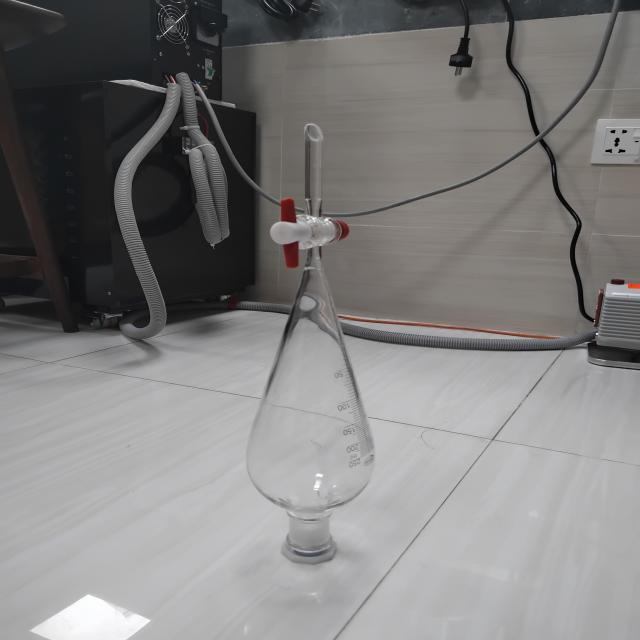Separating_Funnel: (232, 94, 417, 590)
